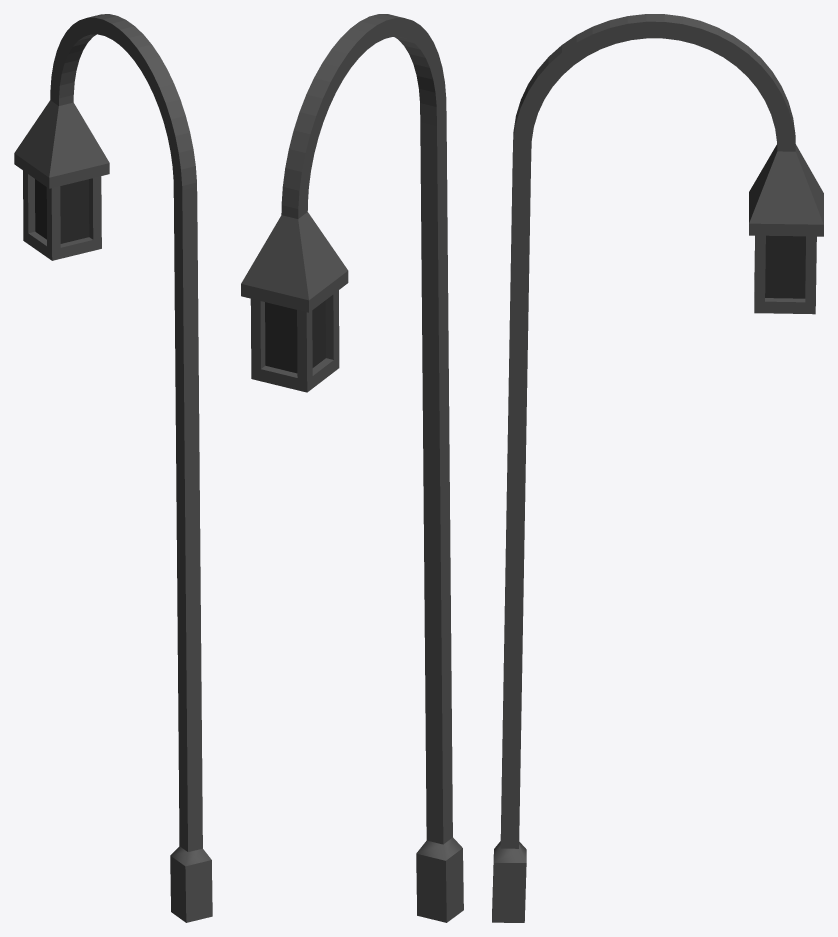
Rendered from streetlight.fbx.
3 views of the same model, side by side, from view 1: azimuth 30°, elevation 25°; view 2: azimuth 150°, elevation 25°; view 3: azimuth 270°, elevation 25° (orthographic). The views are drawn at different scales.
Visible parts, largest first — view 1: SM_StreetLight; view 2: SM_StreetLight; view 3: SM_StreetLight.
Boxes of the visible parts, x1,y1,x2,y2 form: SM_StreetLight: (14, 14, 212, 922); SM_StreetLight: (241, 14, 463, 922); SM_StreetLight: (492, 14, 823, 922).
Bounding box in the file's own units: 30.64 × 406 × 136.
